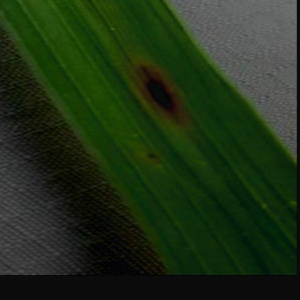Bacterial_Leaf_Blight: (123, 55, 199, 130), (139, 147, 165, 162)
